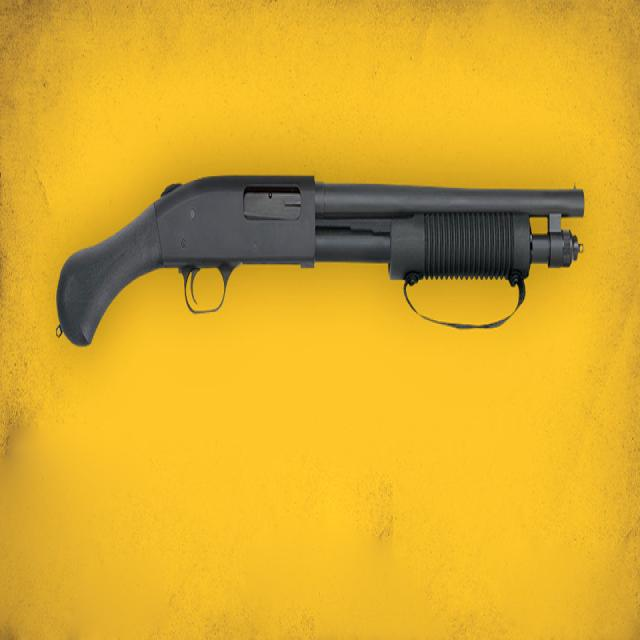ShotGun: (55, 175, 587, 349)
